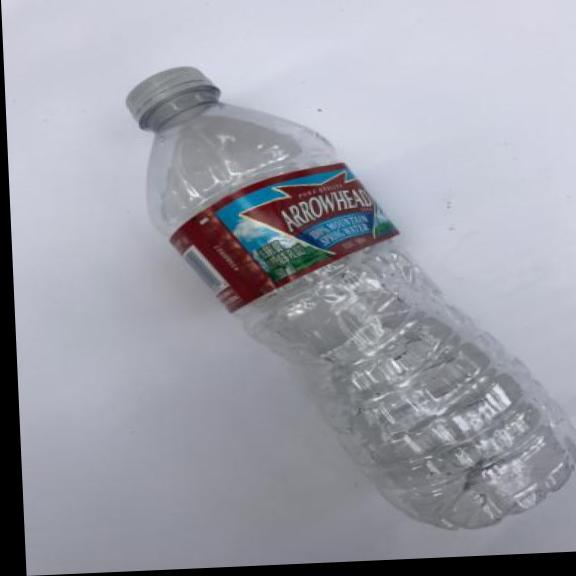Plastik: (113, 47, 576, 549)
